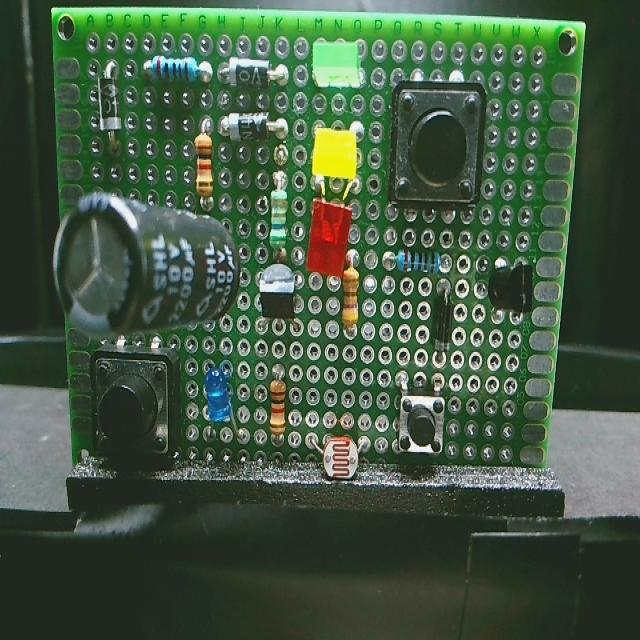Electrolytic capacitor: (46, 186, 249, 338)
cds: (301, 426, 377, 487)
diode: (94, 51, 128, 162), (213, 55, 290, 95), (218, 110, 292, 147), (431, 274, 456, 372)
led: (197, 360, 253, 454), (304, 185, 359, 279), (306, 122, 362, 206), (302, 34, 372, 99)
resistor: (193, 112, 221, 220), (266, 167, 295, 268), (381, 244, 458, 281), (138, 56, 217, 92), (267, 364, 290, 454), (343, 248, 363, 342)
switch: (385, 67, 491, 229), (85, 346, 185, 476), (391, 369, 451, 466)
transistor: (477, 248, 538, 333), (256, 262, 308, 332)
